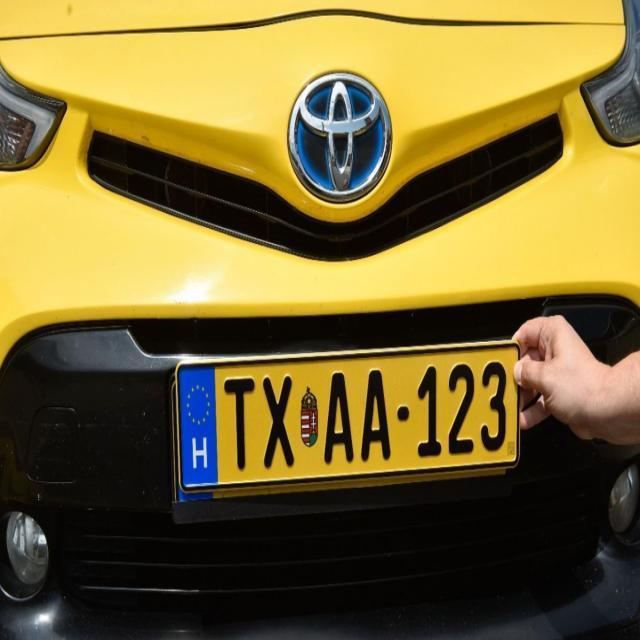licence: (175, 342, 520, 500), (172, 353, 173, 356)
